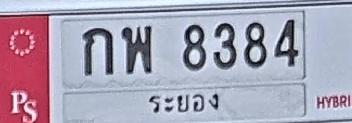3: (213, 22, 236, 69)
4: (274, 18, 298, 66)
8: (182, 24, 206, 71), (244, 21, 267, 68)
A01: (82, 27, 113, 75)
A30: (121, 25, 152, 74)
RYG: (146, 88, 223, 117)
